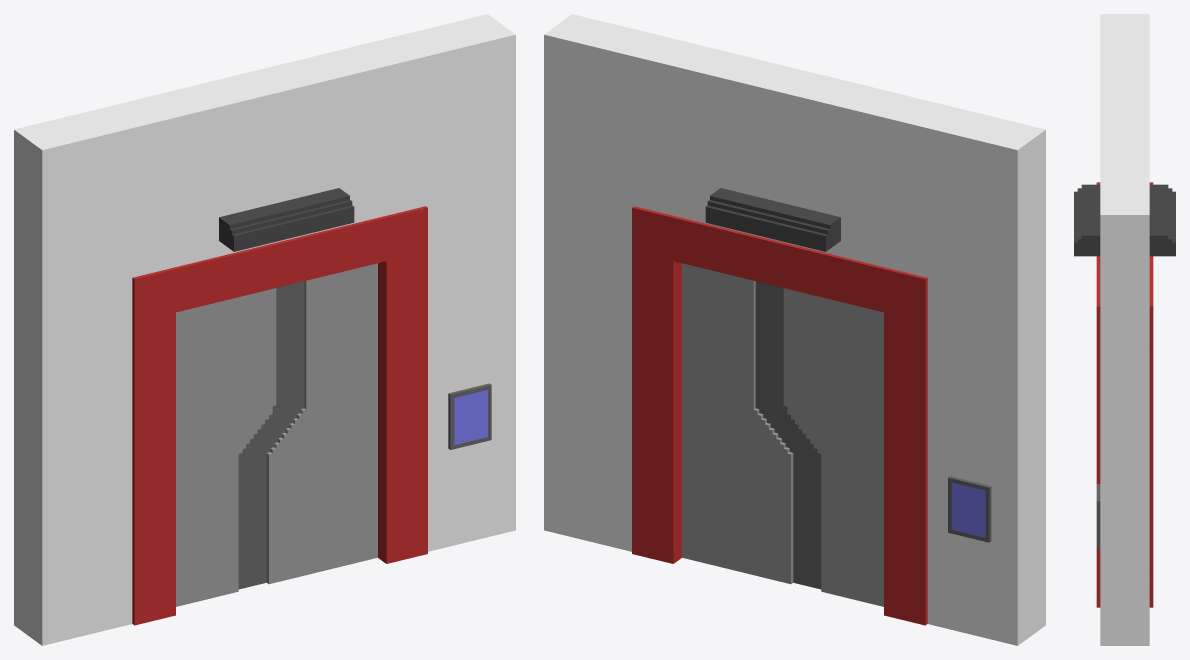
Rendered from Operating_room_Door5-1.fbx.
3 views of the same model, side by side, from view 1: azimuth 30°, elevation 25°; view 2: azimuth 150°, elevation 25°; view 3: azimuth 270°, elevation 25° (orthographic). The views are drawn at different scales.
Visible parts, largest first — view 1: Operating room Door5-1.001, Operating room Door5-1.008, Operating room Door5-1.007, Operating room Door5-1.009; view 2: Operating room Door5-1.001, Operating room Door5-1.008, Operating room Door5-1.007, Operating room Door5-1.006; view 3: Operating room Door5-1.001.
Boxes of the visible parts, left/top/right/bottom form: Operating room Door5-1.001: left=14, top=14, right=515, bottom=645; Operating room Door5-1.008: left=251, top=263, right=377, bottom=586; Operating room Door5-1.007: left=176, top=285, right=289, bottom=606; Operating room Door5-1.009: left=454, top=390, right=487, bottom=444; Operating room Door5-1.001: left=544, top=14, right=1045, bottom=645; Operating room Door5-1.008: left=682, top=263, right=808, bottom=586; Operating room Door5-1.007: left=770, top=285, right=883, bottom=606; Operating room Door5-1.006: left=951, top=482, right=985, bottom=537; Operating room Door5-1.001: left=1074, top=14, right=1175, bottom=645.
Bounding box in the file's own units: 1260 × 1260 × 270.
